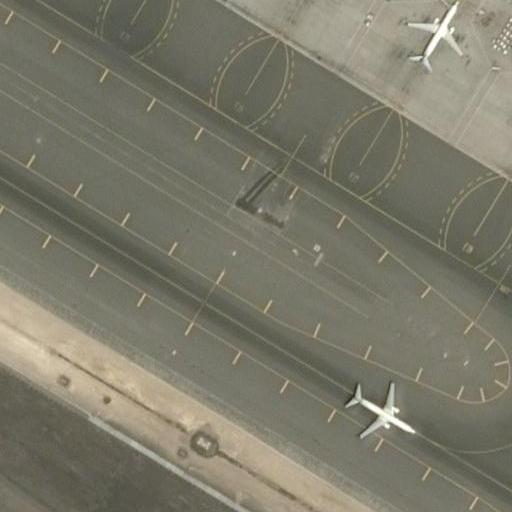Aircraft: (338, 376, 412, 446), (406, 0, 472, 62)
